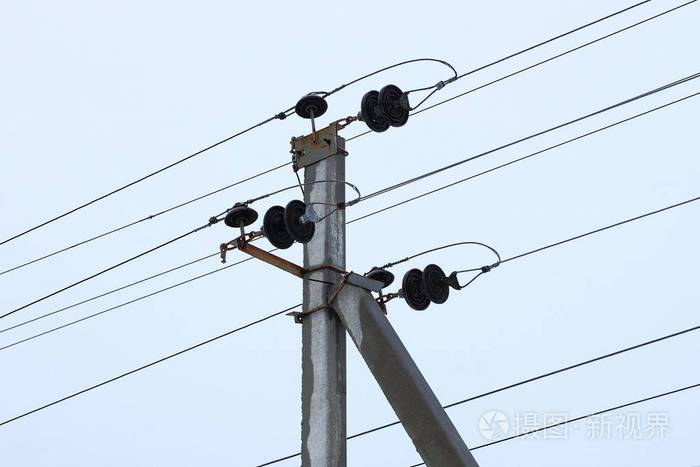insulator: (266, 200, 312, 249), (364, 84, 408, 132), (405, 264, 449, 311)
